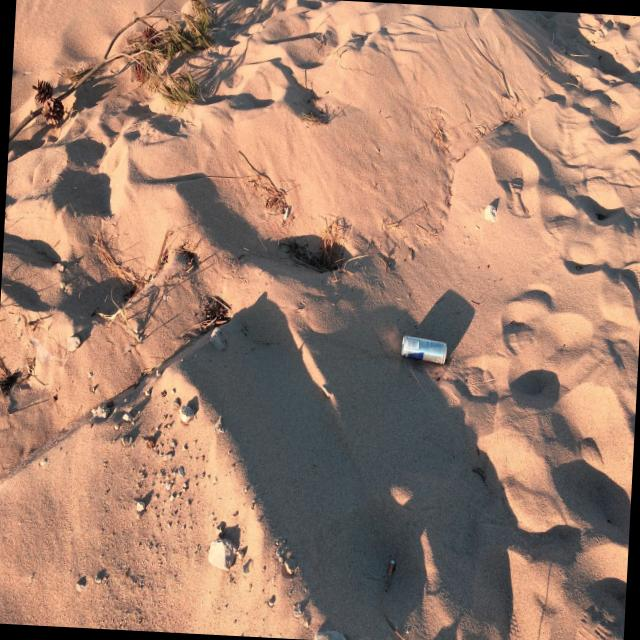less trash: (401, 336, 446, 365)
